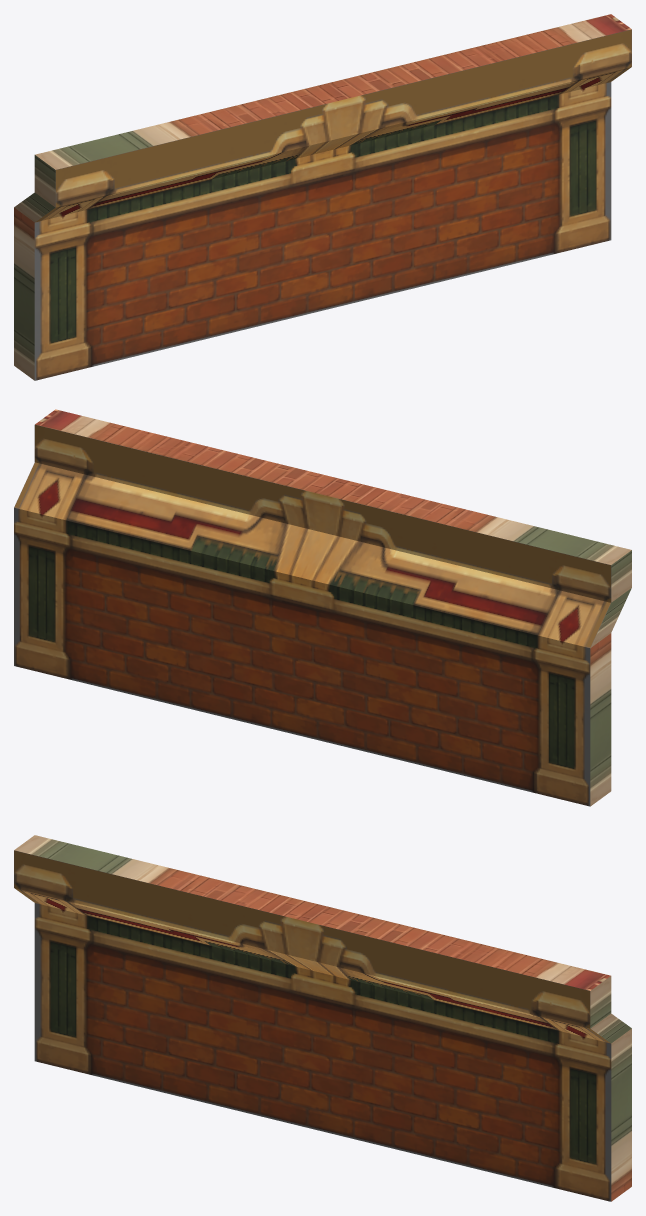
File: BRK_Parapet4.fbx
The picture shows the model from 3 angles, top to bottom: view 1: azimuth 30°, elevation 25°; view 2: azimuth 150°, elevation 25°; view 3: azimuth 330°, elevation 25°; orthographic projection.
Parts seen in each view (by area): view 1: BRK_Parapet4; view 2: BRK_Parapet4; view 3: BRK_Parapet4.
Boxes of the visible parts, x1,y1,x2,y2 form: BRK_Parapet4: (14,14,631,380); BRK_Parapet4: (14,409,631,806); BRK_Parapet4: (14,835,631,1201).
Bounding box in the file's own units: 4 × 0.5 × 1.5.
Materials: 1 (1 with a texture image).
